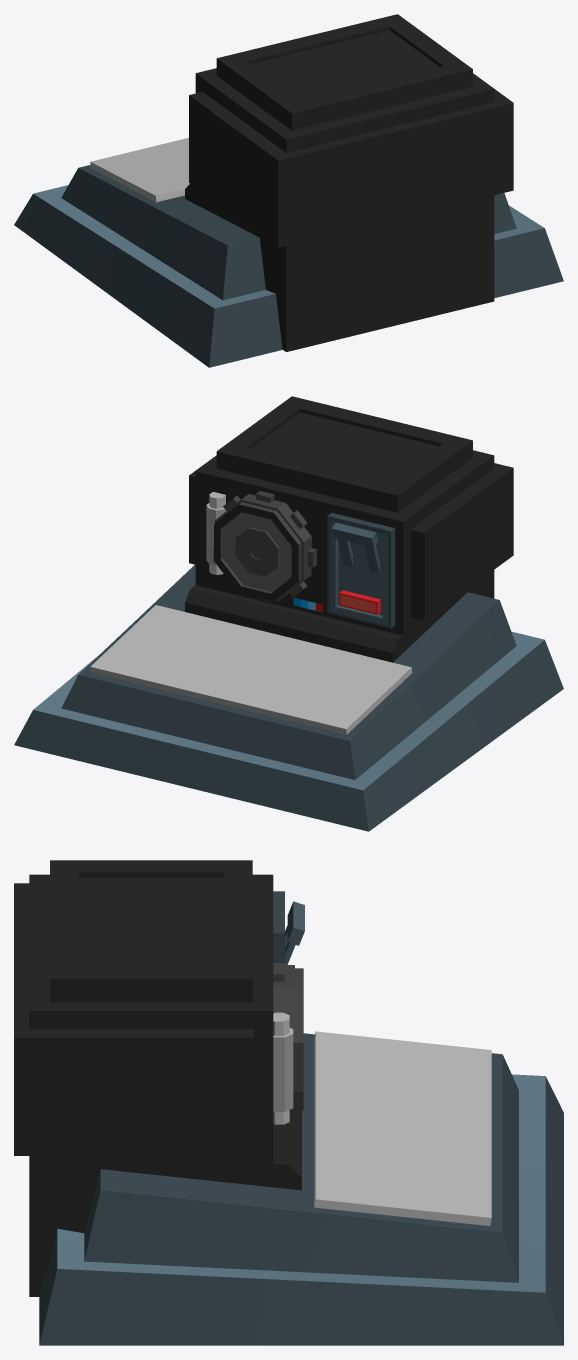
File: CraftingMachine.fbx
The picture shows the model from 3 angles, top to bottom: view 1: azimuth 30°, elevation 25°; view 2: azimuth 150°, elevation 25°; view 3: azimuth 270°, elevation 25°; orthographic projection. The views are drawn at different scales.
Parts seen in each view (by area): view 1: Upper, Base; view 2: Base, Upper, Door, Lever, Button; view 3: Base, Upper, Door, Lever.
Part boxes in pixels (bbox=[...]): Upper: bbox=[185, 14, 513, 351]; Base: bbox=[14, 137, 563, 367]; Base: bbox=[14, 564, 563, 831]; Upper: bbox=[185, 396, 513, 662]; Door: bbox=[206, 491, 316, 601]; Lever: bbox=[331, 522, 379, 573]; Button: bbox=[339, 590, 380, 614]; Base: bbox=[39, 1031, 563, 1345]; Upper: bbox=[14, 860, 301, 1296]; Door: bbox=[273, 963, 303, 1124]; Lever: bbox=[285, 901, 304, 964].
Bounding box in the file's own units: 5.48 × 5.47 × 3.4.
